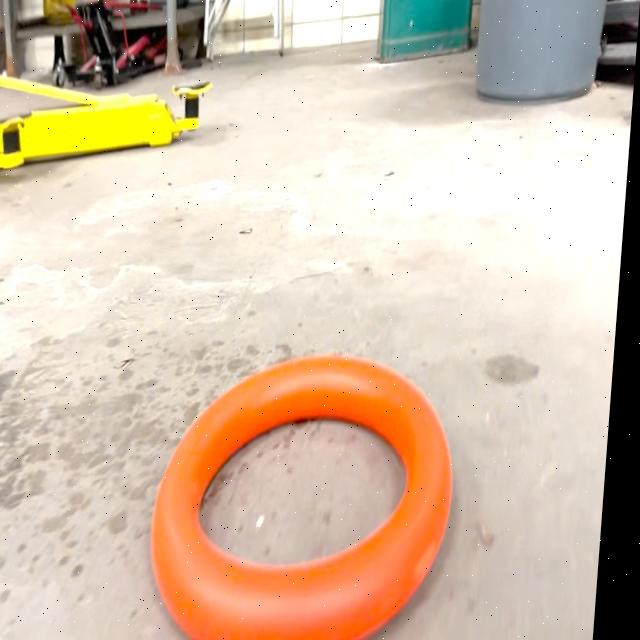note: (150, 371, 463, 640)
